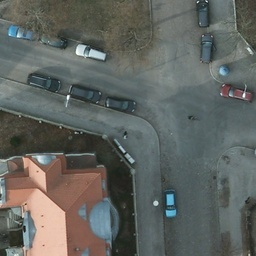car: (218, 80, 253, 103), (72, 42, 109, 61), (68, 84, 102, 104), (106, 93, 136, 115), (162, 188, 178, 219), (199, 32, 213, 66), (5, 24, 35, 39), (29, 74, 61, 88), (195, 0, 209, 30), (40, 33, 67, 47), (0, 0, 13, 7)
